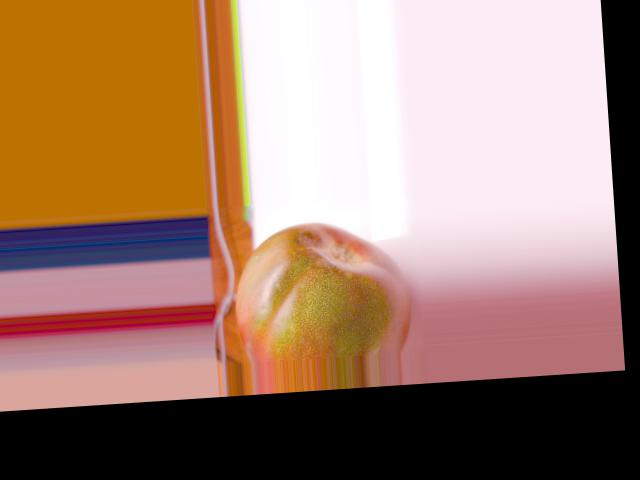tomato: (229, 217, 412, 364)
